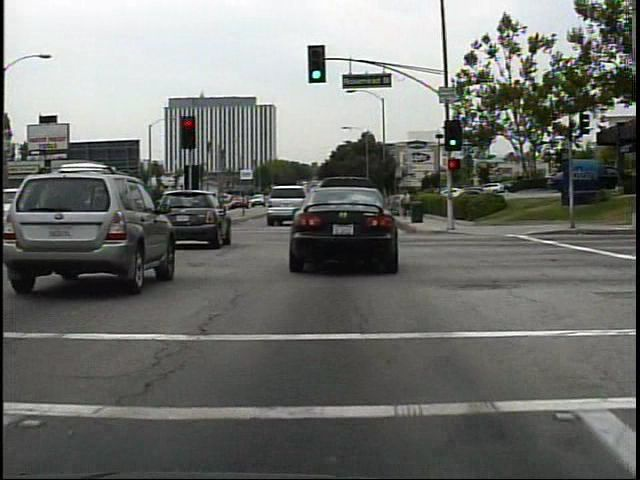person: (399, 187, 412, 221)
